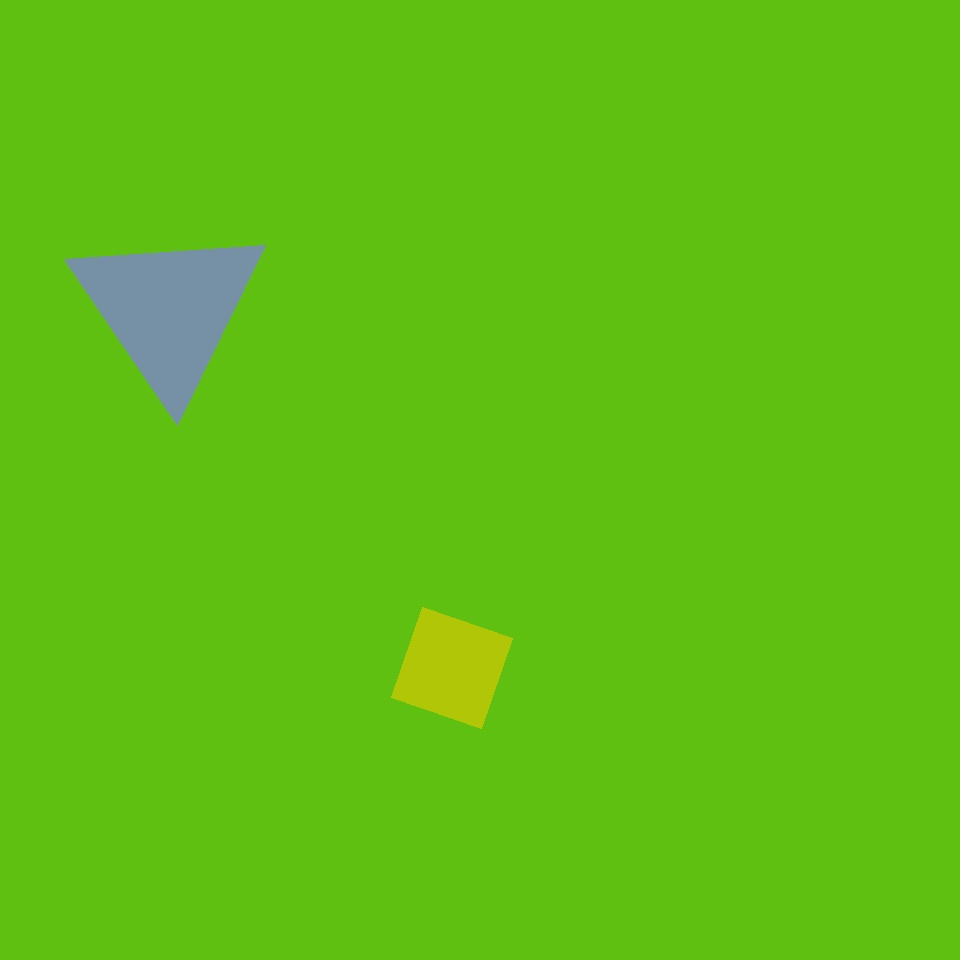circle: (69, 220, 270, 400)
square: (392, 608, 512, 728)
